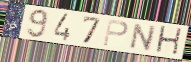4: (52, 12, 71, 42)
7: (81, 15, 104, 45)
9: (26, 8, 50, 39)
H: (154, 24, 184, 58)
N: (127, 22, 159, 52)
P: (102, 18, 130, 48)
